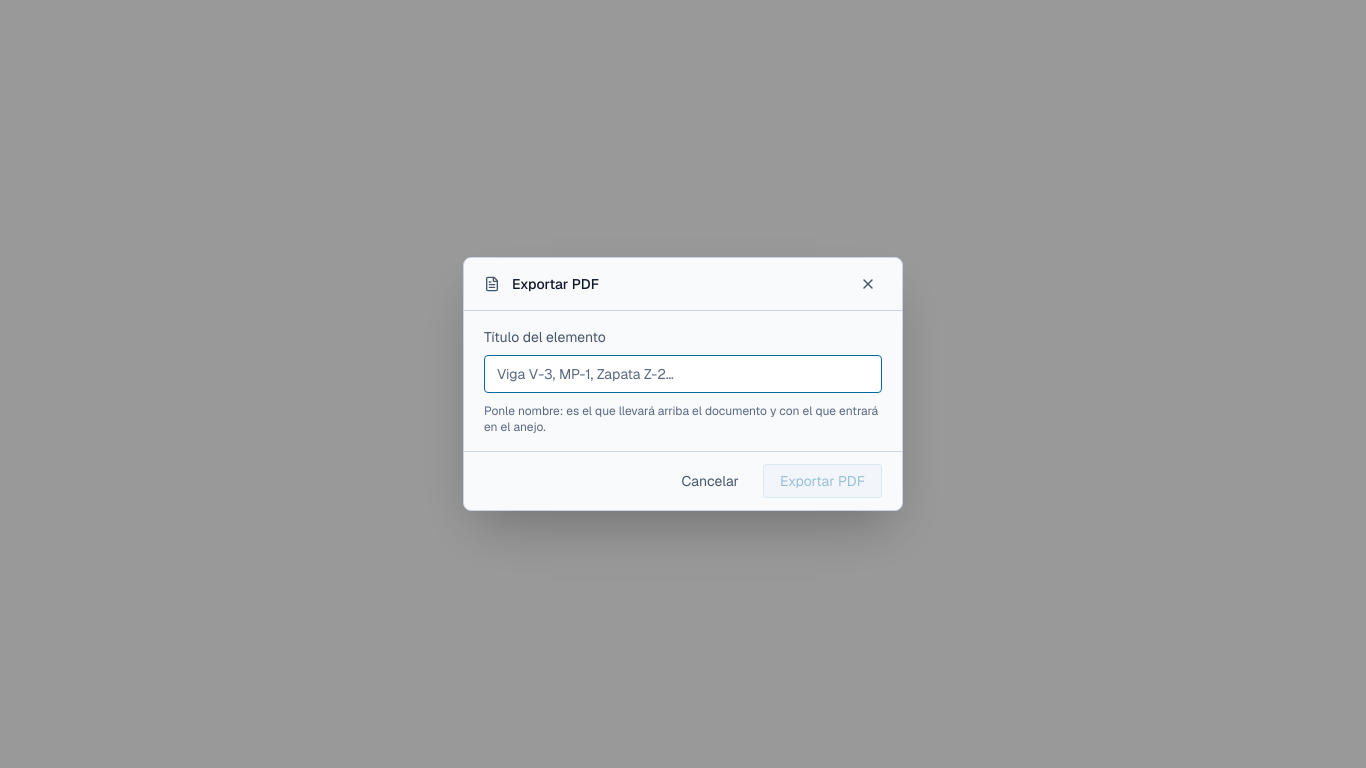
Test: TitlePromptModal › solo símbolos → slug vacío → preview cae al fallback
This screenshot has width=1366, height=768.
Type "/// ???" into the field labelled "Título del elemento" at (683, 374), box 484,355 -> 882,393
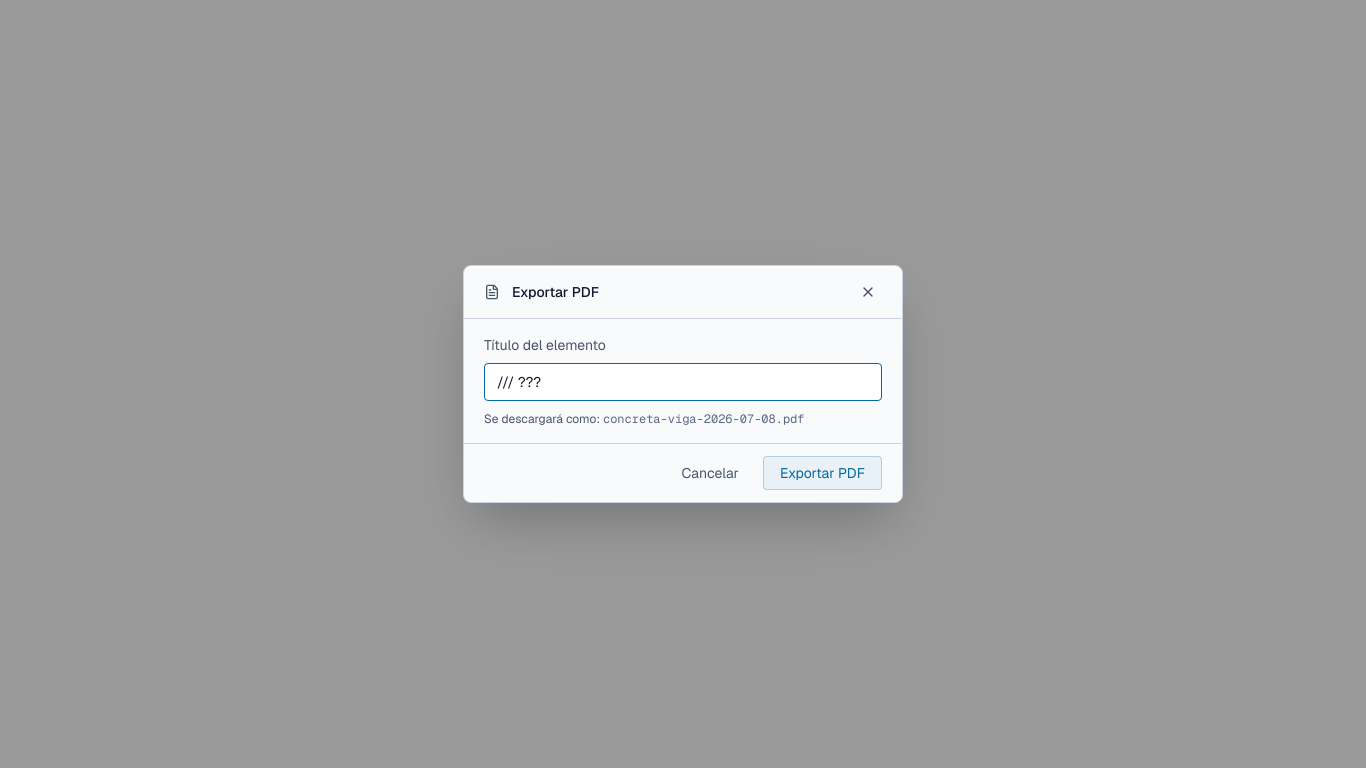
Result: the text "concreta-viga-2026-07-08.pdf" is shown at 603,411 -> 805,427
